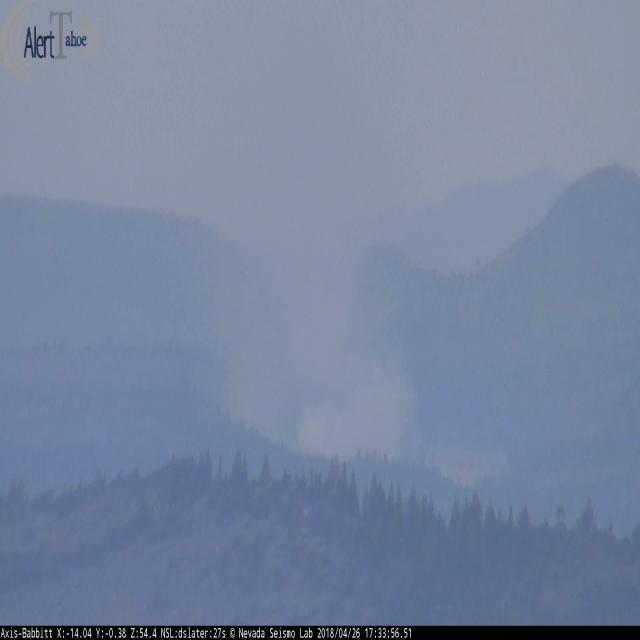smoke: (222, 170, 504, 484)
